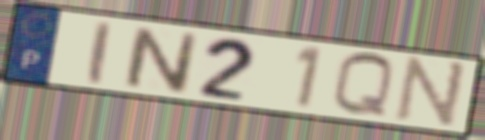1: (292, 46, 323, 112)
2: (191, 34, 263, 107)
I: (86, 18, 114, 87)
N: (391, 55, 471, 131), (122, 24, 199, 96)
Q: (329, 50, 397, 120)
